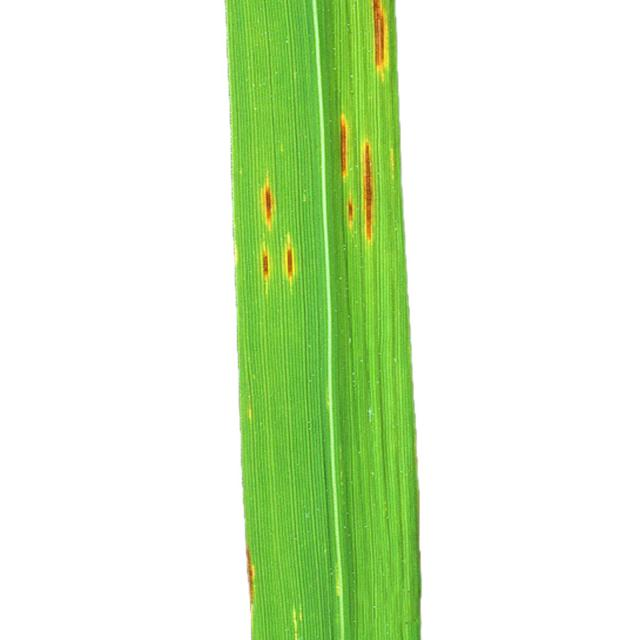Narrow brown: (220, 0, 472, 640)
